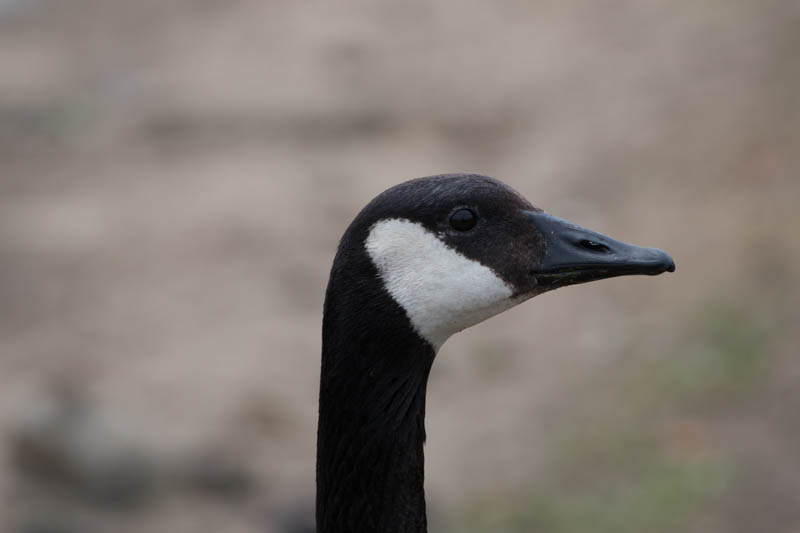goose-head: (322, 173, 676, 356)
